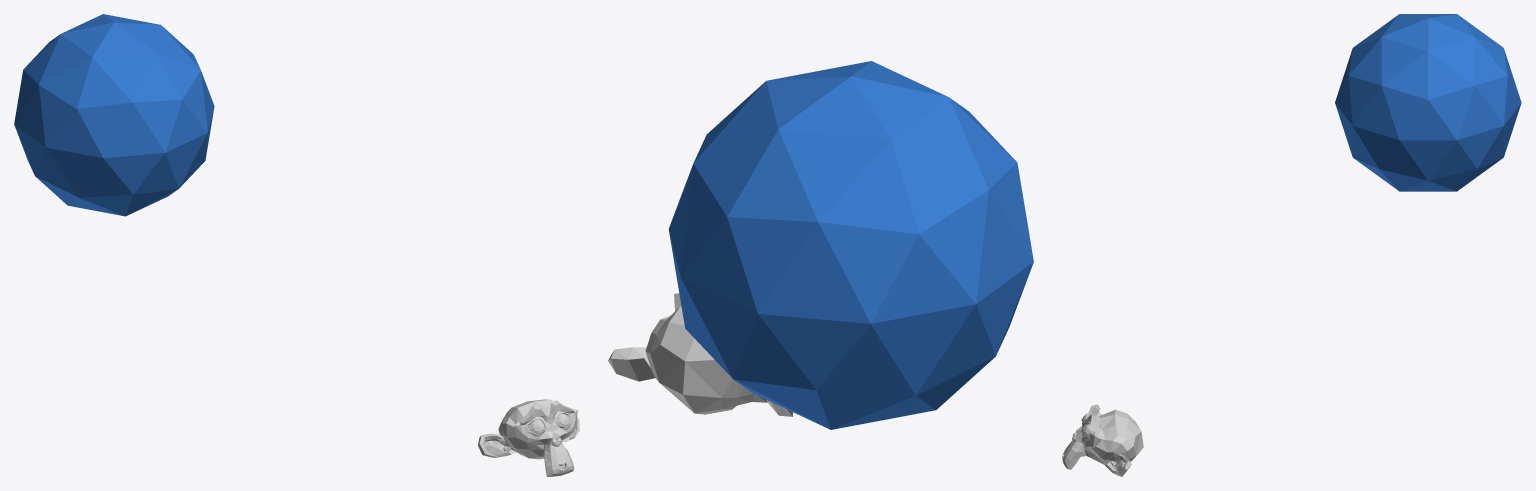
The picture shows the model from 3 angles, left to right: view 1: azimuth 30°, elevation 25°; view 2: azimuth 150°, elevation 25°; view 3: azimuth 270°, elevation 25°; orthographic projection. The views are drawn at different scales.
Visible parts, largest first — view 1: Icosphere, Suzanne; view 2: Icosphere, Suzanne; view 3: Icosphere, Suzanne.
Boxes of the visible parts, x1=… form: Icosphere: x1=14, y1=14, x2=214, y2=216; Suzanne: x1=478, y1=399, x2=579, y2=476; Icosphere: x1=668, y1=61, x2=1033, y2=429; Suzanne: x1=608, y1=293, x2=793, y2=416; Icosphere: x1=1335, y1=14, x2=1521, y2=191; Suzanne: x1=1062, y1=404, x2=1143, y2=476.
Bounding box in the file's own units: 4.32 × 4.92 × 3.98.
